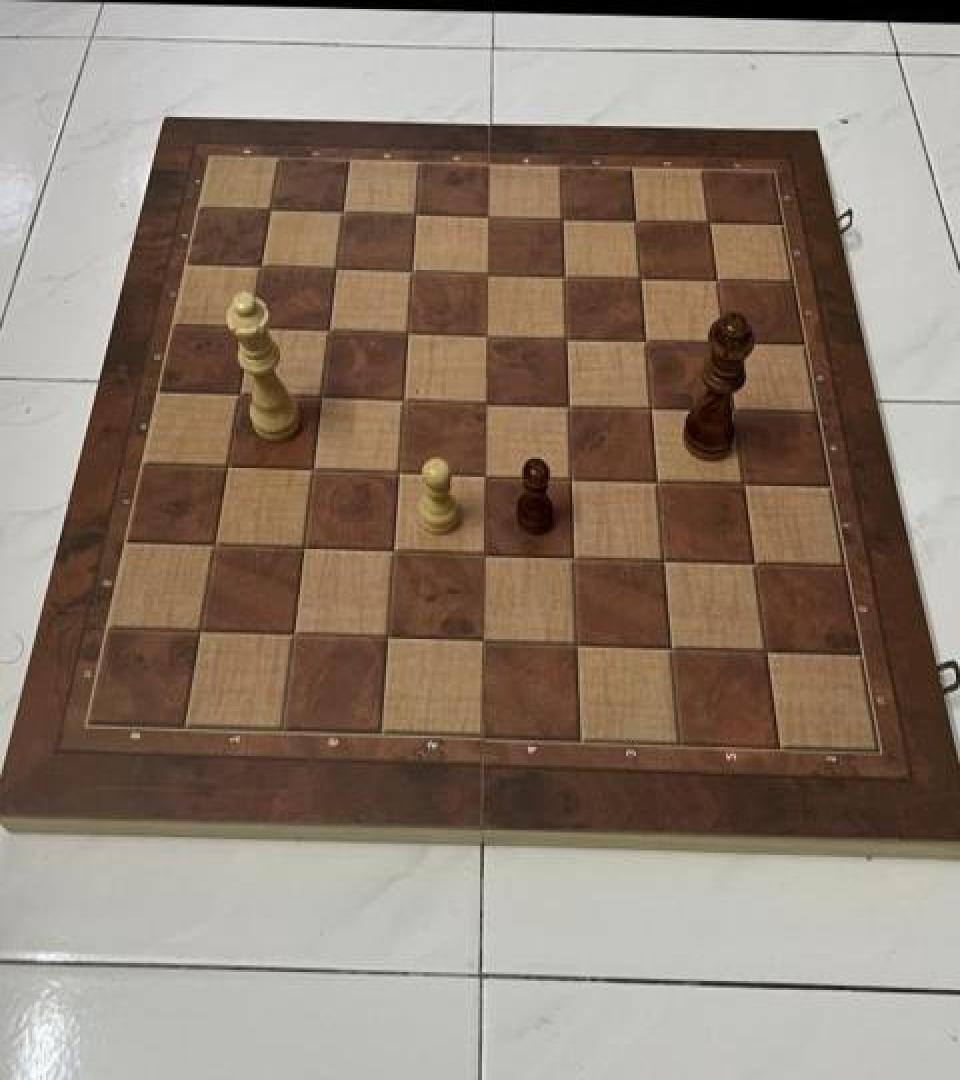xcorner: (690, 201, 724, 240), (253, 192, 287, 230), (325, 194, 359, 232), (397, 195, 431, 233), (470, 196, 504, 234), (543, 198, 577, 236), (616, 199, 650, 237), (244, 248, 278, 286), (318, 250, 352, 288), (393, 251, 427, 289), (469, 253, 503, 291), (545, 255, 579, 293), (621, 256, 655, 294), (698, 258, 732, 296), (234, 308, 268, 346), (311, 310, 345, 348), (389, 312, 423, 350), (468, 314, 502, 352), (547, 316, 581, 354), (626, 318, 660, 356), (706, 321, 740, 359), (222, 374, 256, 412), (303, 376, 337, 414), (385, 378, 419, 416), (466, 380, 500, 418), (549, 382, 583, 420), (632, 386, 666, 424), (716, 388, 750, 426), (210, 446, 244, 484), (295, 448, 329, 486), (380, 450, 414, 488), (465, 454, 499, 492), (551, 456, 585, 494), (638, 459, 672, 497), (725, 462, 759, 500), (197, 523, 231, 561), (285, 526, 319, 564), (374, 530, 408, 568), (464, 532, 498, 570), (554, 536, 588, 574), (645, 539, 679, 577), (736, 542, 770, 580), (182, 609, 216, 647), (275, 612, 309, 650), (368, 616, 402, 654), (462, 620, 496, 658), (557, 624, 591, 662), (652, 627, 686, 665), (748, 630, 782, 668)
